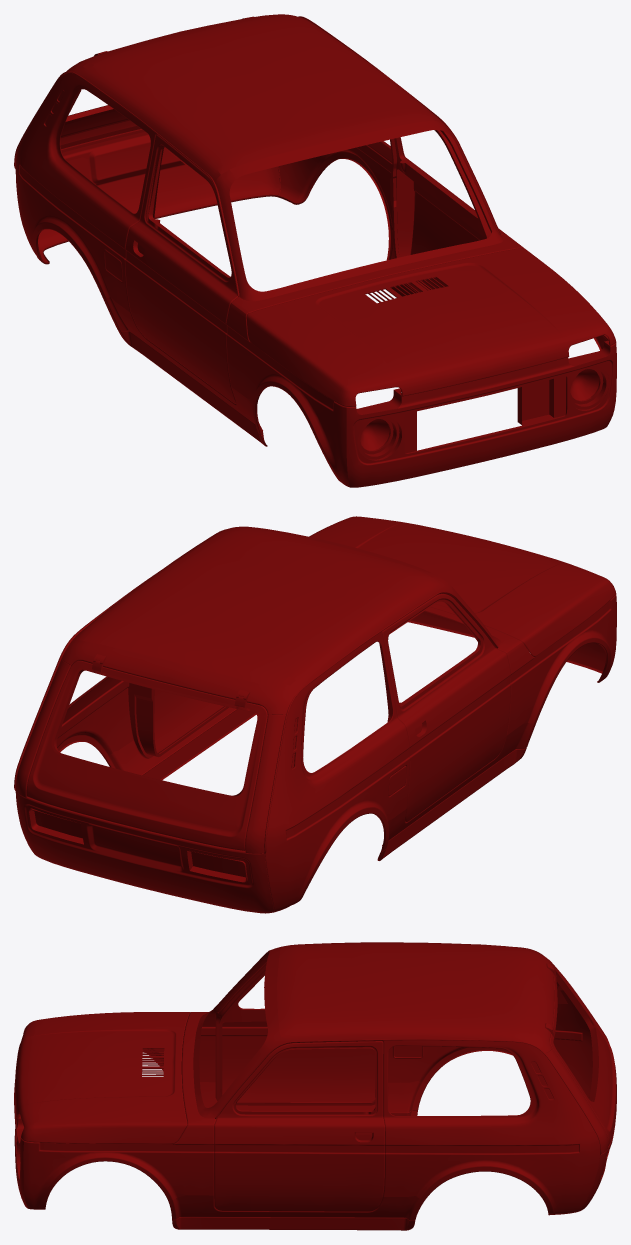
File: car_niva.glb
The picture shows the model from 3 angles, top to bottom: view 1: azimuth 30°, elevation 25°; view 2: azimuth 150°, elevation 25°; view 3: azimuth 270°, elevation 25°; orthographic projection. The views are drawn at different scales.
Parts seen in each view (by area): view 1: body; view 2: body; view 3: body.
Part boxes in pixels (<box>): body: <box>14,14,616,487</box>; body: <box>14,516,616,913</box>; body: <box>14,942,616,1230</box>.
Size of the model in its own units: 1.78 by 1.35 by 3.69.
